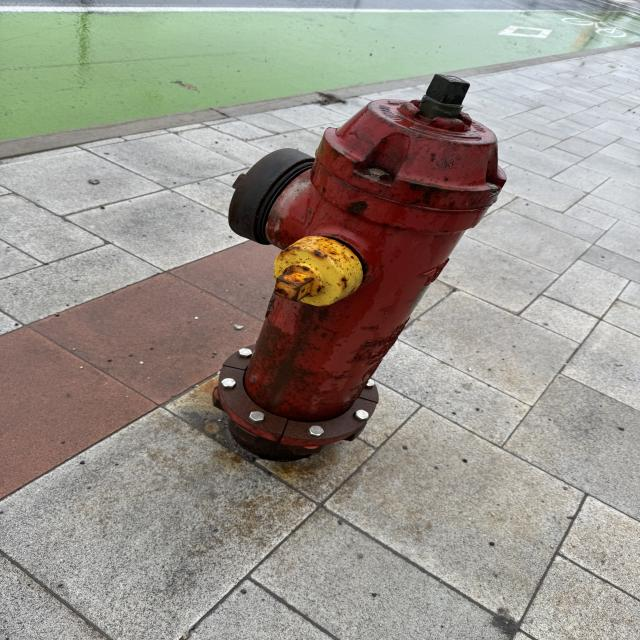Fire hydrant: (211, 74, 508, 463)
